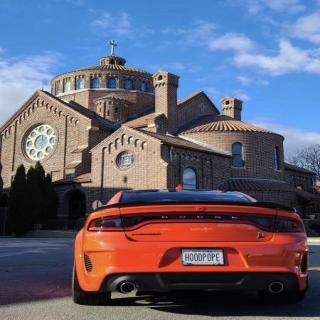license: (182, 249, 225, 267)
